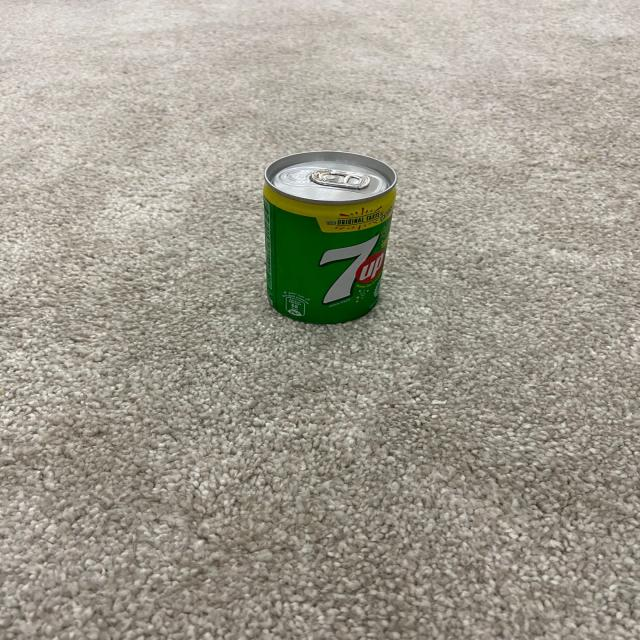non-organic waste: (258, 147, 401, 330)
